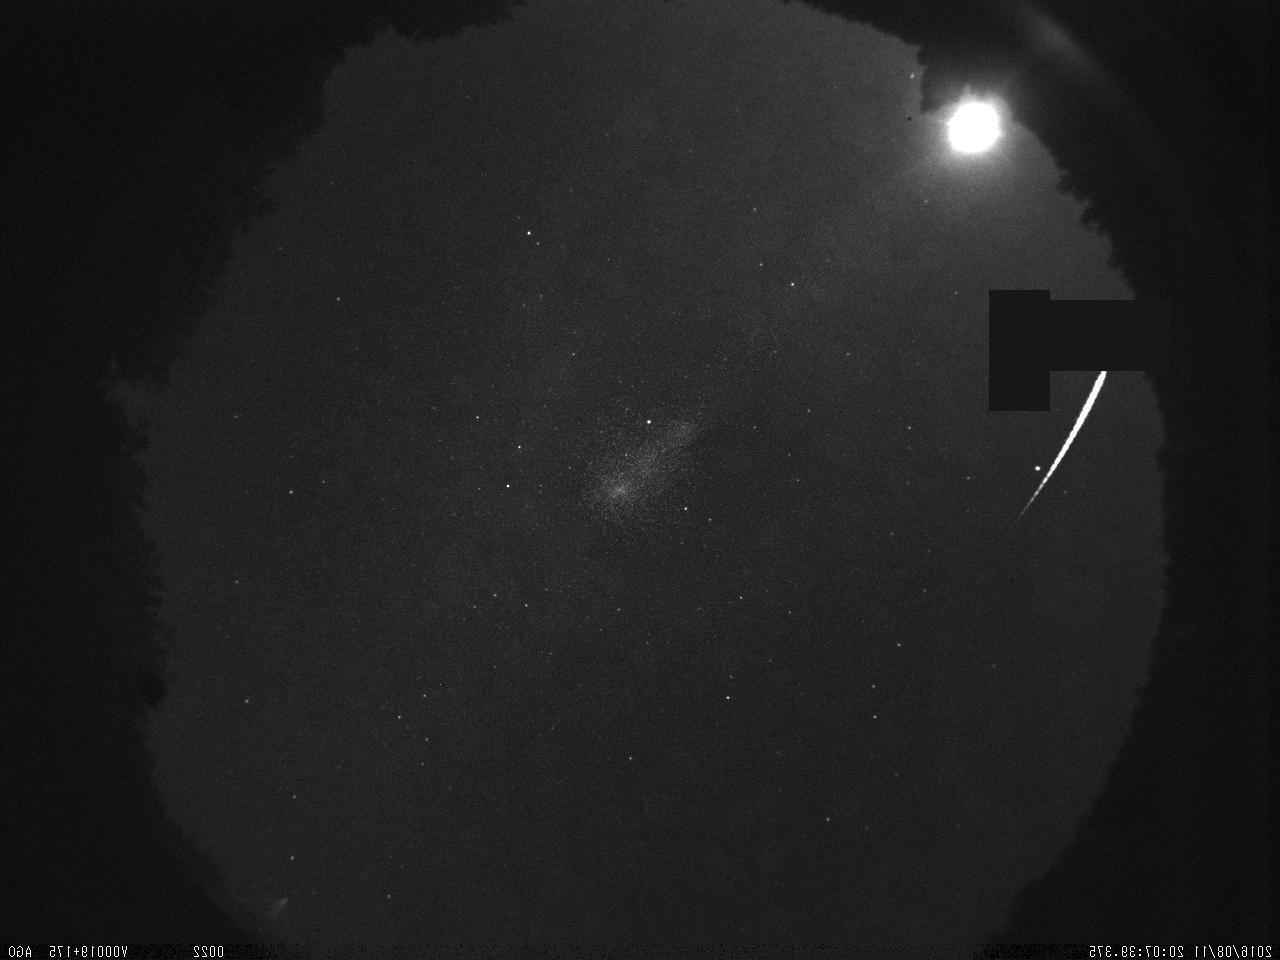meteor: (1000, 348, 1117, 526)
